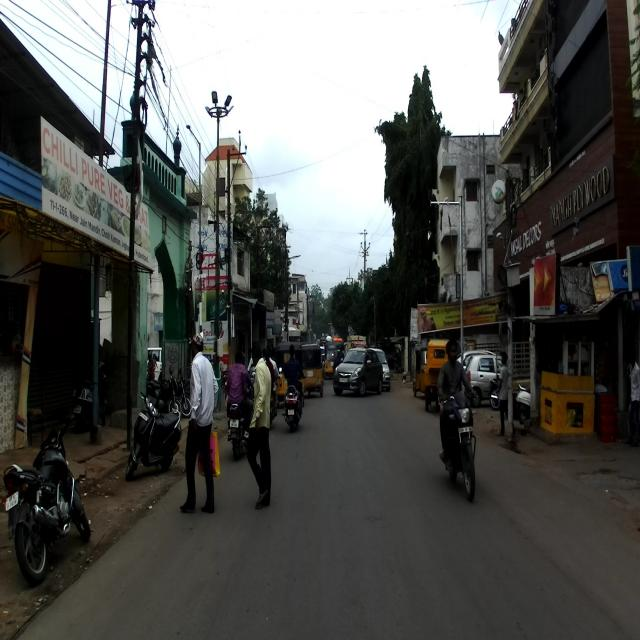car: (331, 349, 384, 397)
motorcycle: (3, 415, 91, 579), (437, 389, 481, 502)
scooter: (124, 387, 180, 478), (72, 361, 109, 428), (278, 366, 306, 430)
